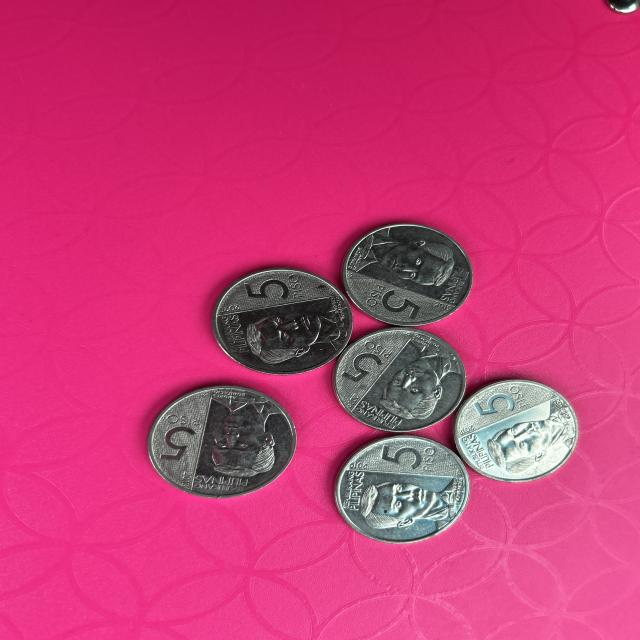5_New_Front: (358, 282, 432, 330), (378, 432, 456, 474), (476, 381, 542, 429), (150, 409, 202, 467), (342, 340, 391, 393), (246, 273, 316, 308)
